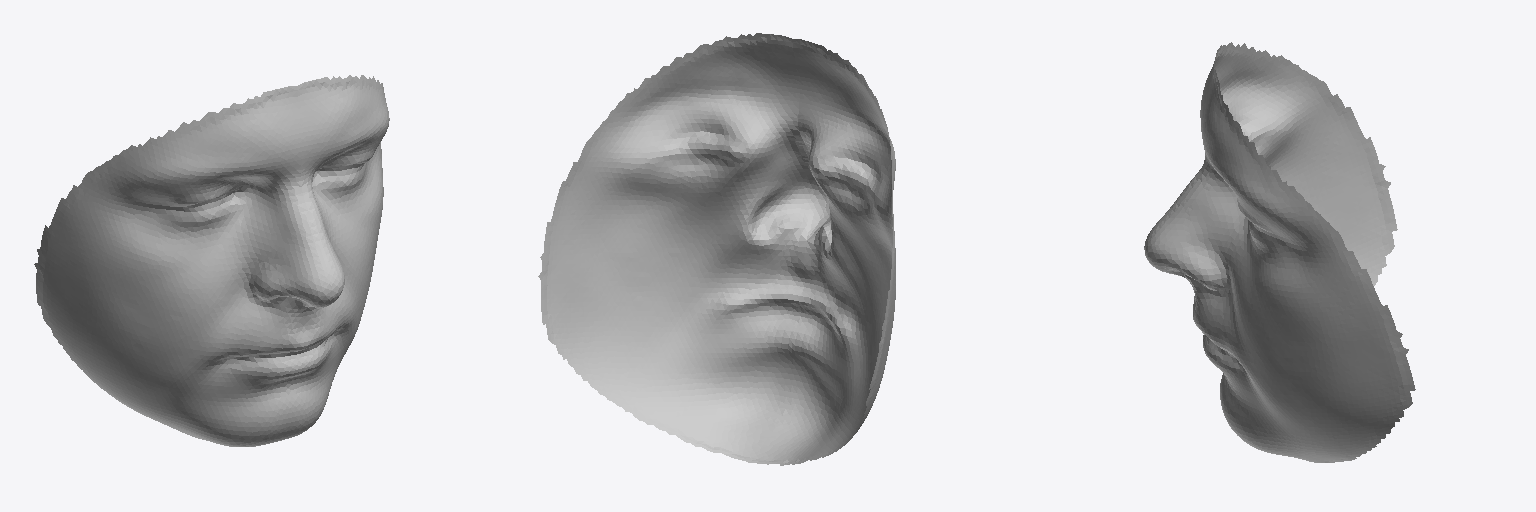
File: SIMPOP_21.obj
3 views of the same model, side by side, from view 1: azimuth 30°, elevation 25°; view 2: azimuth 150°, elevation 25°; view 3: azimuth 270°, elevation 25° (orthographic).
Parts seen in each view (by area): view 1: SIMPOP_21; view 2: SIMPOP_21; view 3: SIMPOP_21.
Part boxes in pixels (x1,y1,x2,y2): SIMPOP_21: (34,75,389,446); SIMPOP_21: (538,33,895,465); SIMPOP_21: (1144,42,1415,462).
Size of the model in its own units: 151 by 167 by 106.